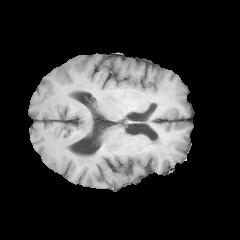glioma: (76, 136, 164, 169)
